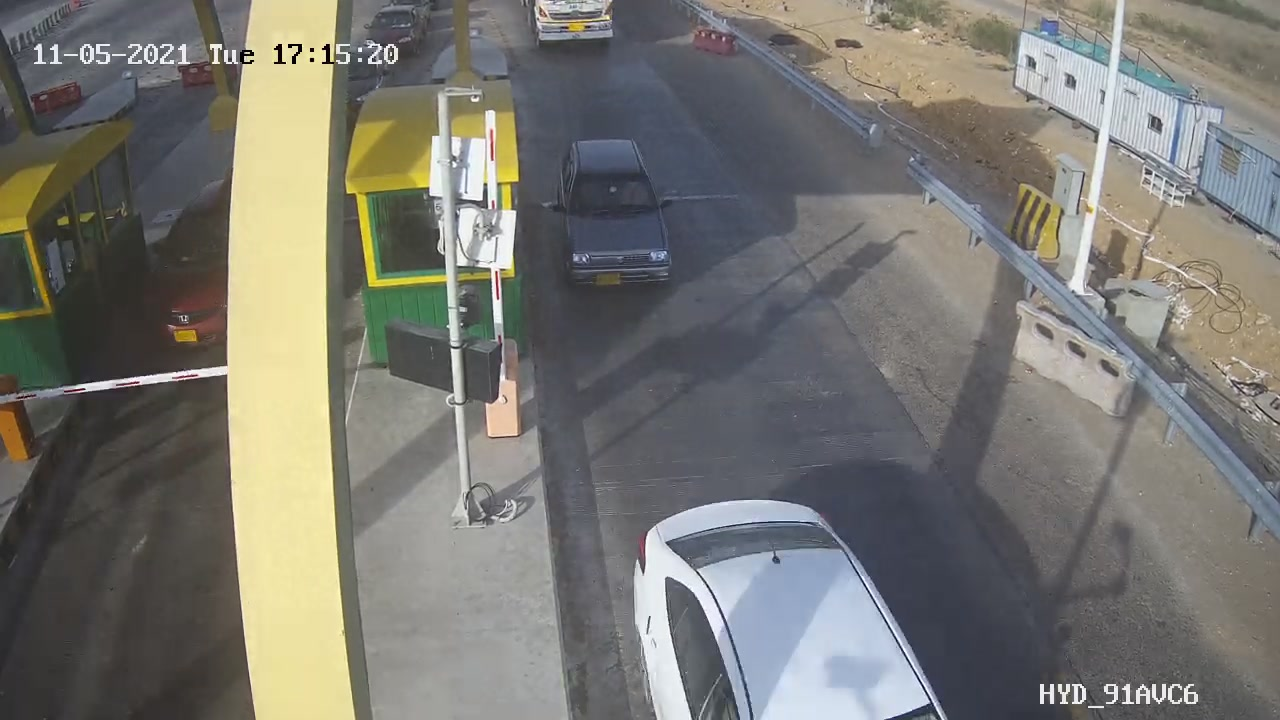F1: (531, 124, 704, 305)
